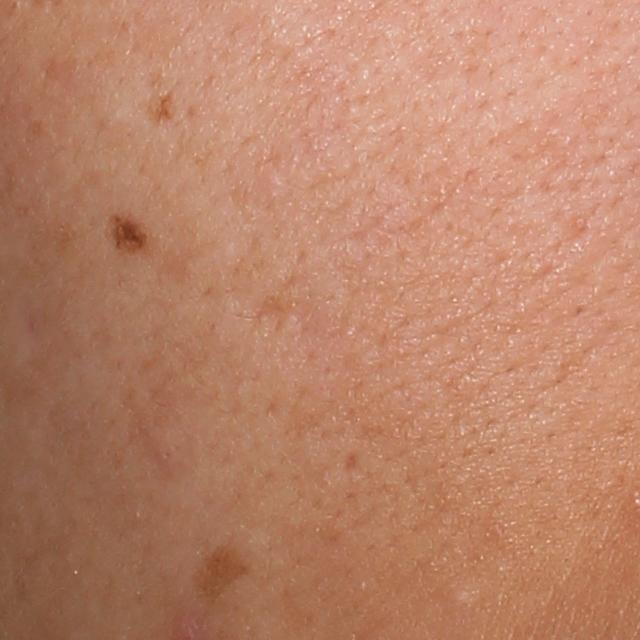atrophic_scar: (243, 287, 296, 326), (338, 447, 364, 478)
comedo: (447, 580, 478, 614)
melasma: (196, 534, 263, 612)
nevus: (104, 212, 152, 256)
